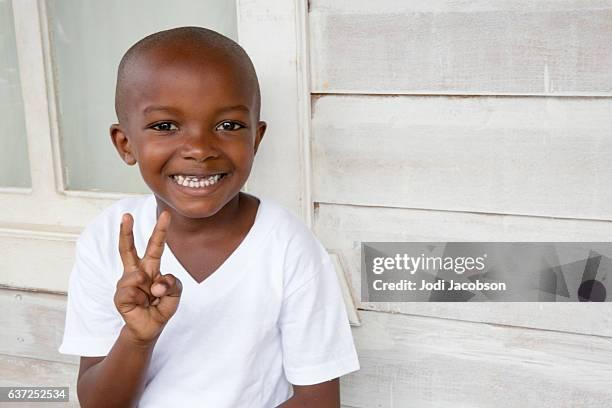peace_sign: (106, 203, 193, 352)
